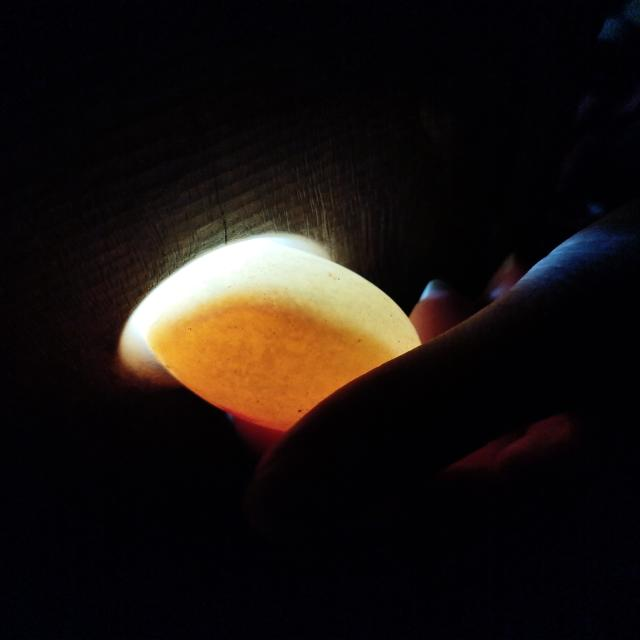Gema Quebrada: (146, 302, 387, 431)
